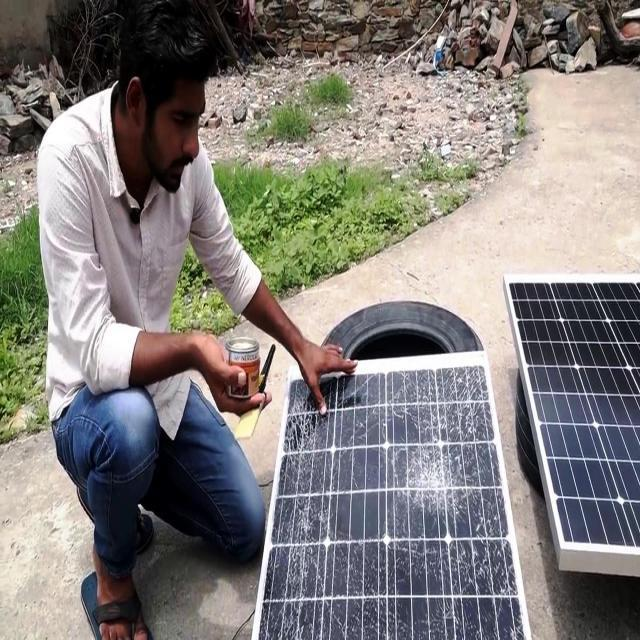faulty: (262, 354, 524, 637)
no faulty: (502, 273, 640, 548)
